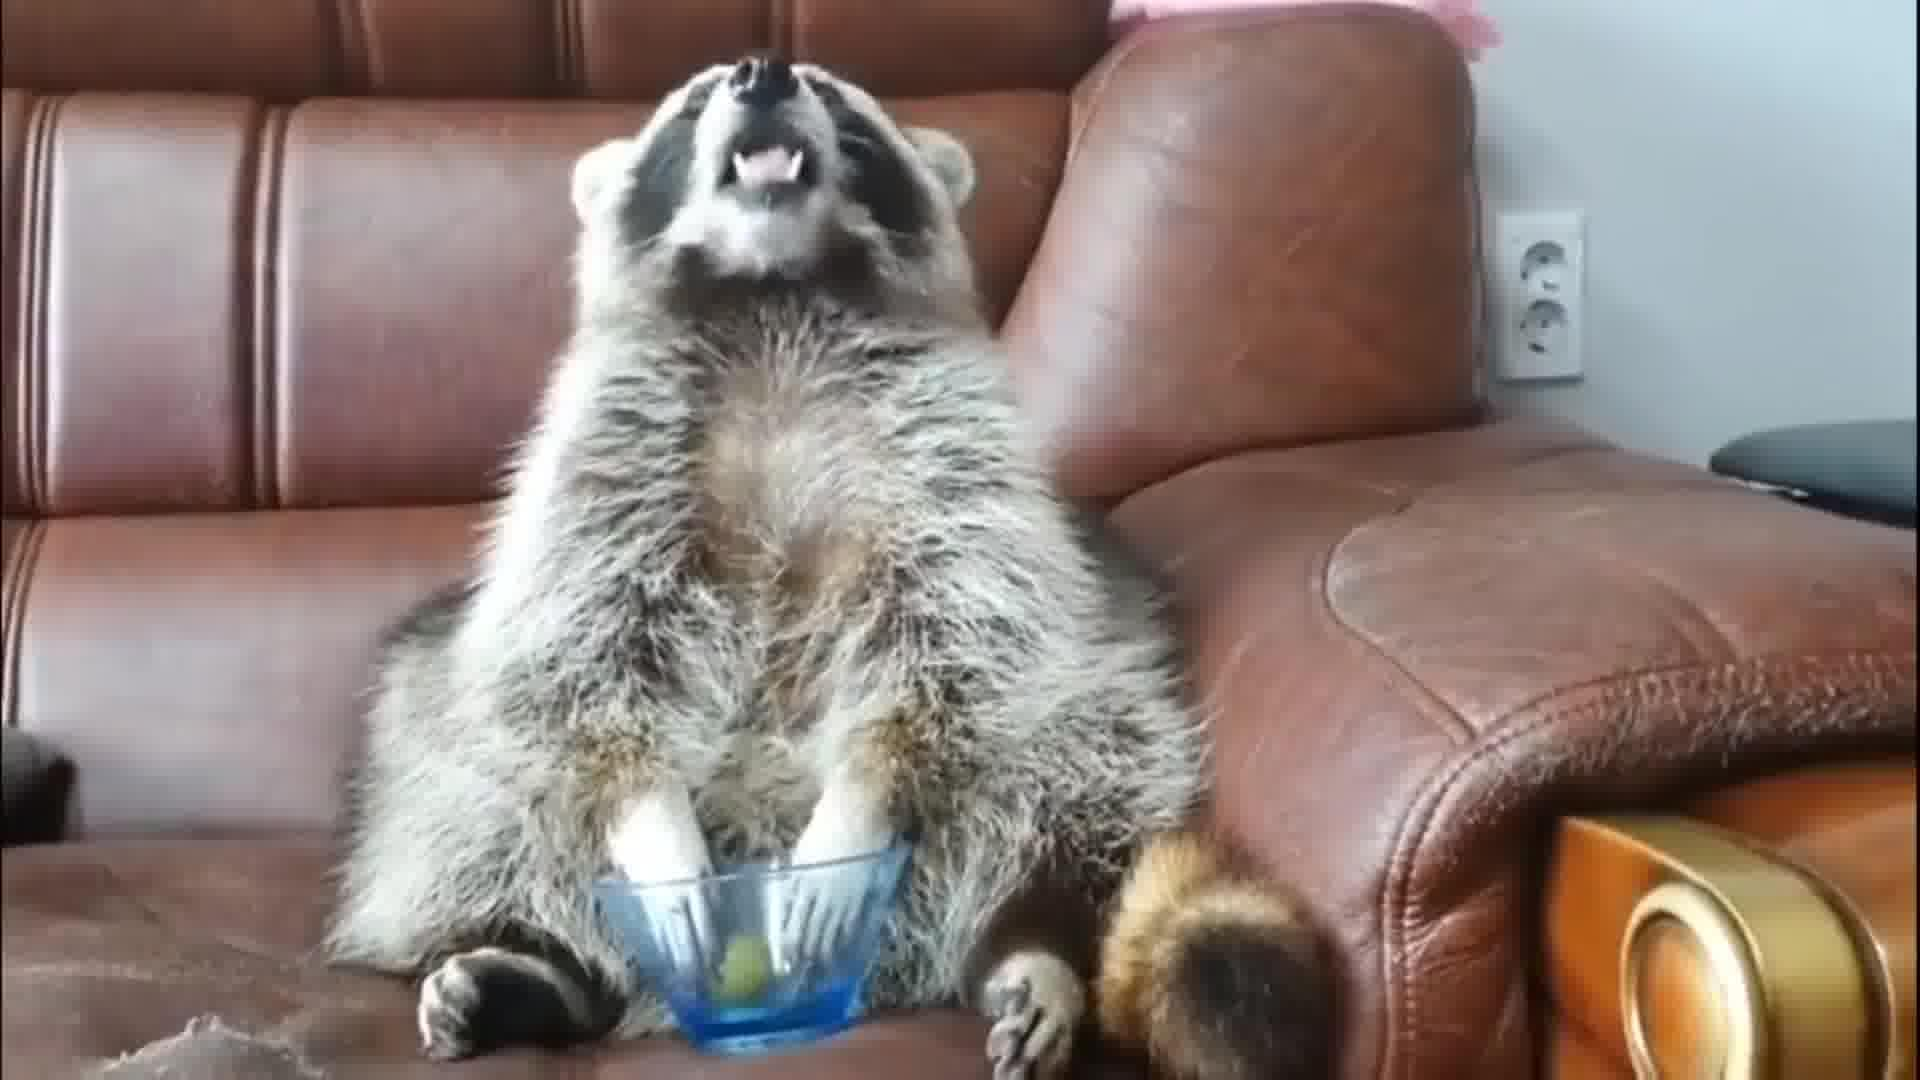raccoon: (298, 57, 1373, 1080)
